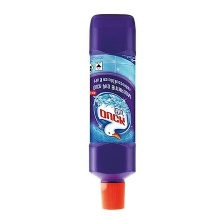cleaning_solution: (83, 11, 139, 217)
